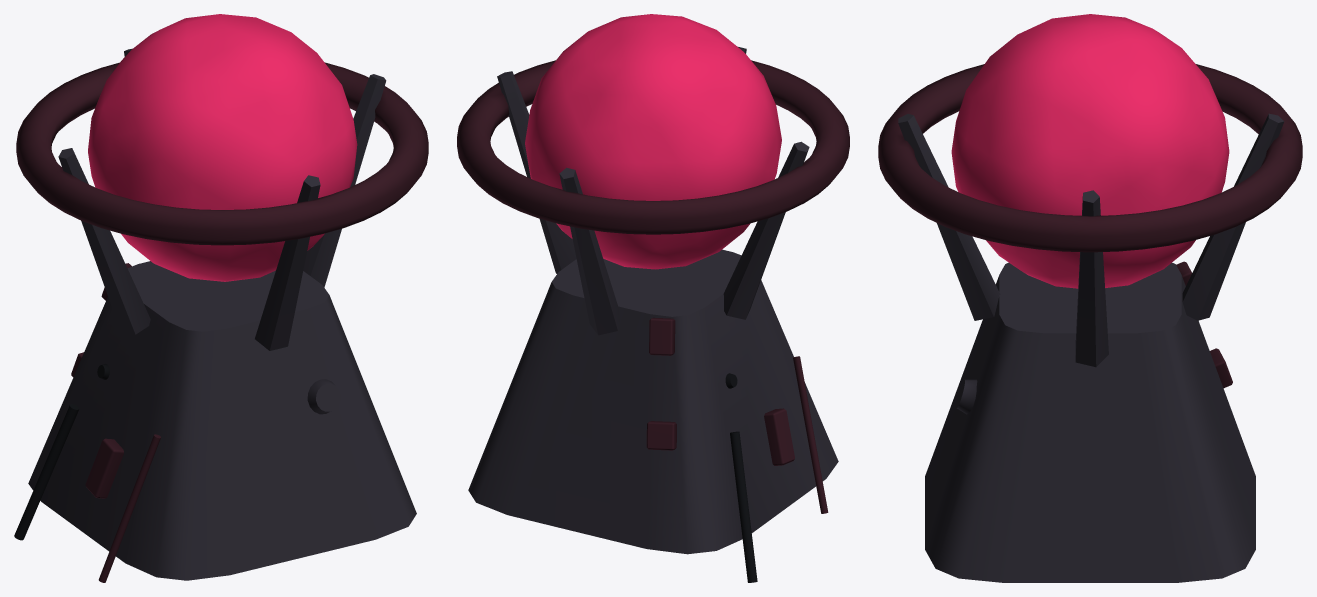
Rendered from shieldGenerator.glb.
The picture shows the model from 3 angles, left to right: view 1: azimuth 30°, elevation 25°; view 2: azimuth 150°, elevation 25°; view 3: azimuth 270°, elevation 25°; orthographic projection. The views are drawn at different scales.
Parts seen in each view (by area): view 1: shieldGenerator; view 2: shieldGenerator; view 3: shieldGenerator.
Boxes of the visible parts, x1,y1,x2,y2 form: shieldGenerator: (14,14,428,582); shieldGenerator: (457,14,849,582); shieldGenerator: (878,14,1302,582).
Bounding box in the file's own units: 150 × 206 × 150.
